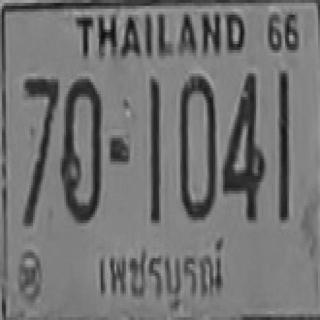N00: (60, 76, 101, 220), (178, 73, 215, 217)
N01: (277, 69, 289, 219), (148, 76, 160, 220)
N04: (221, 70, 264, 217)
N07: (23, 76, 58, 223), (23, 76, 58, 176)
P43: (90, 233, 229, 318)
